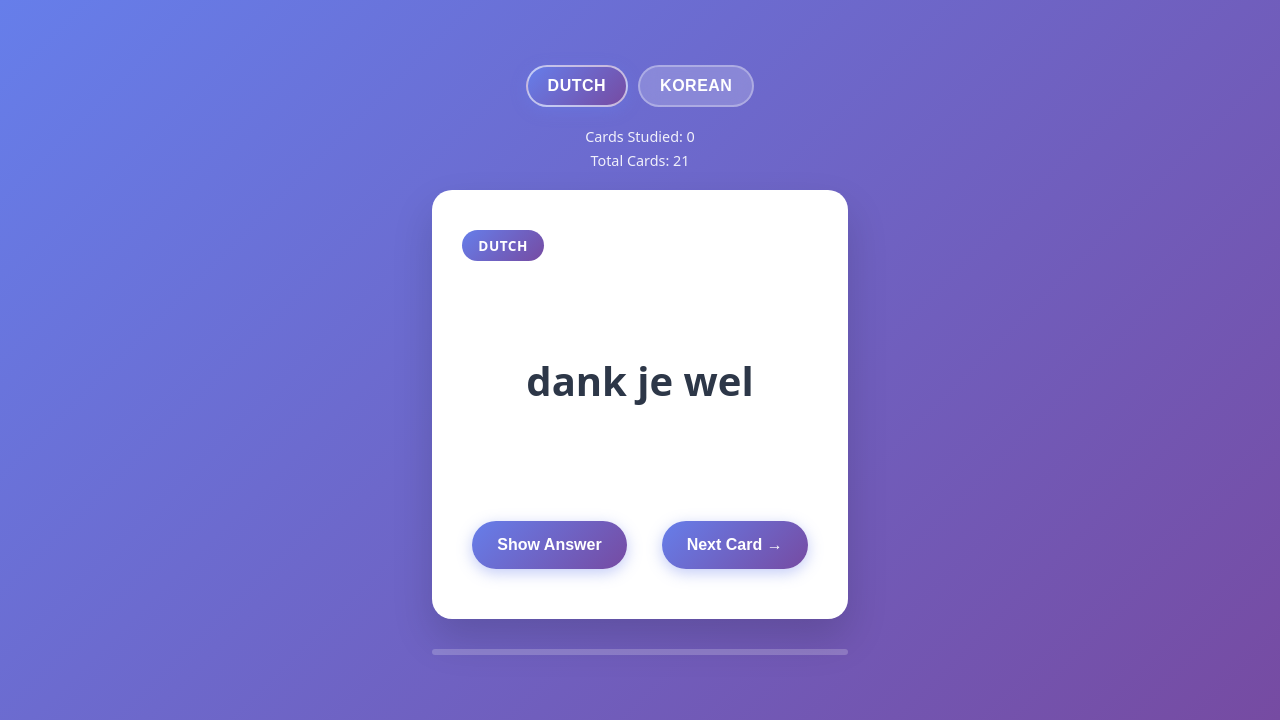
Scenario: Flashcard App › Language Switching › resets cards studied counter when switching languages
This screenshot has width=1280, height=720.
Step 1. Click the button "Next Card →" → coordinates (735, 545), box [662,521,808,569]
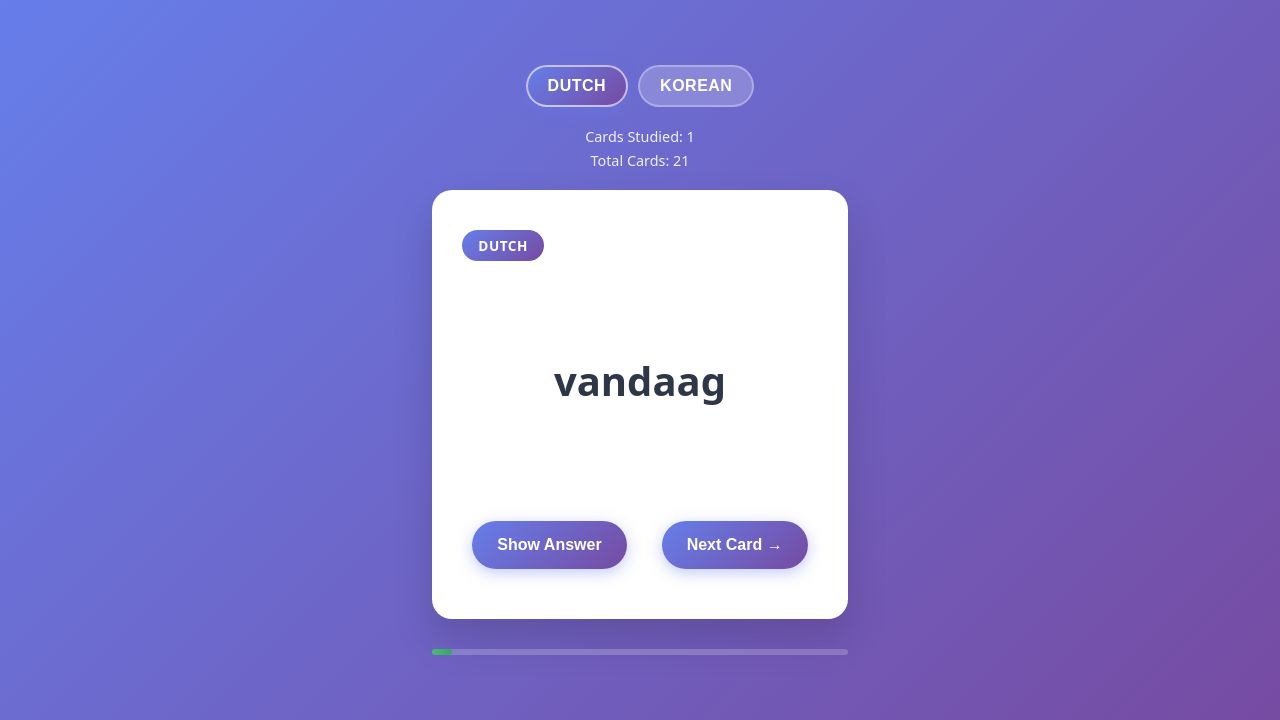
Step 2. Click the button "Next Card →" → coordinates (735, 545), box [662,521,808,569]
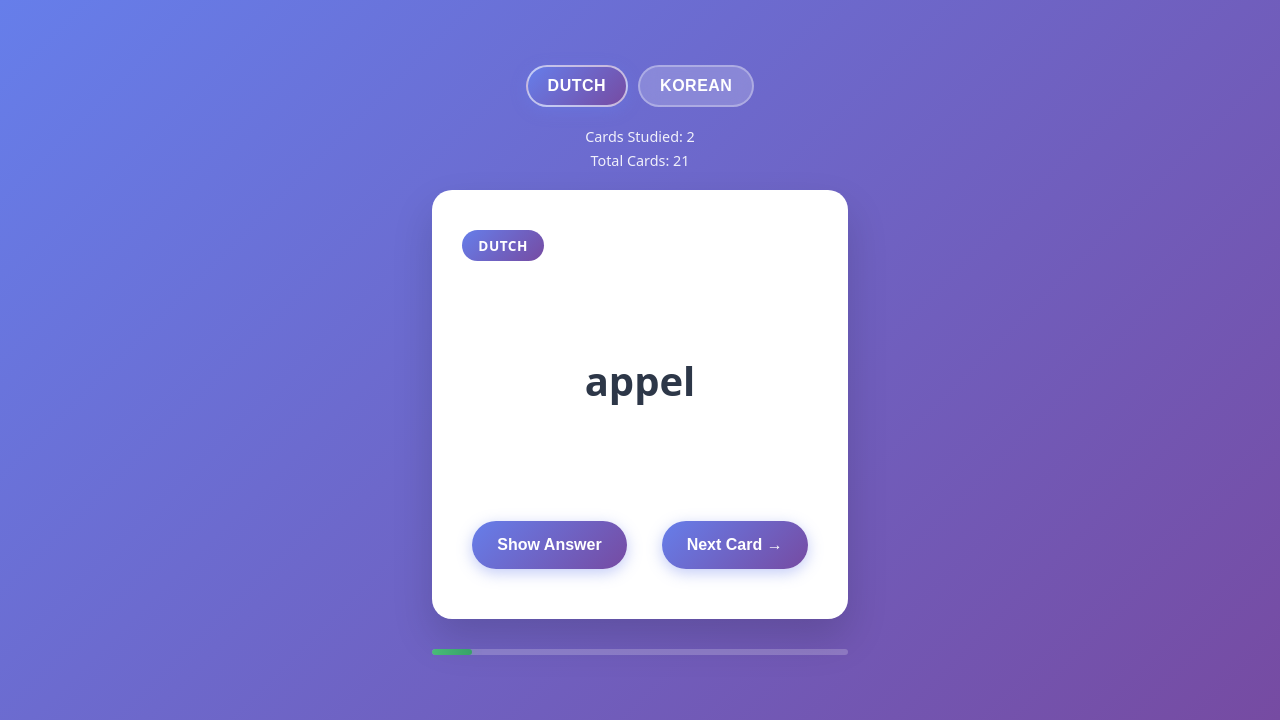
Step 3. Click the button "Next Card →" → coordinates (735, 545), box [662,521,808,569]
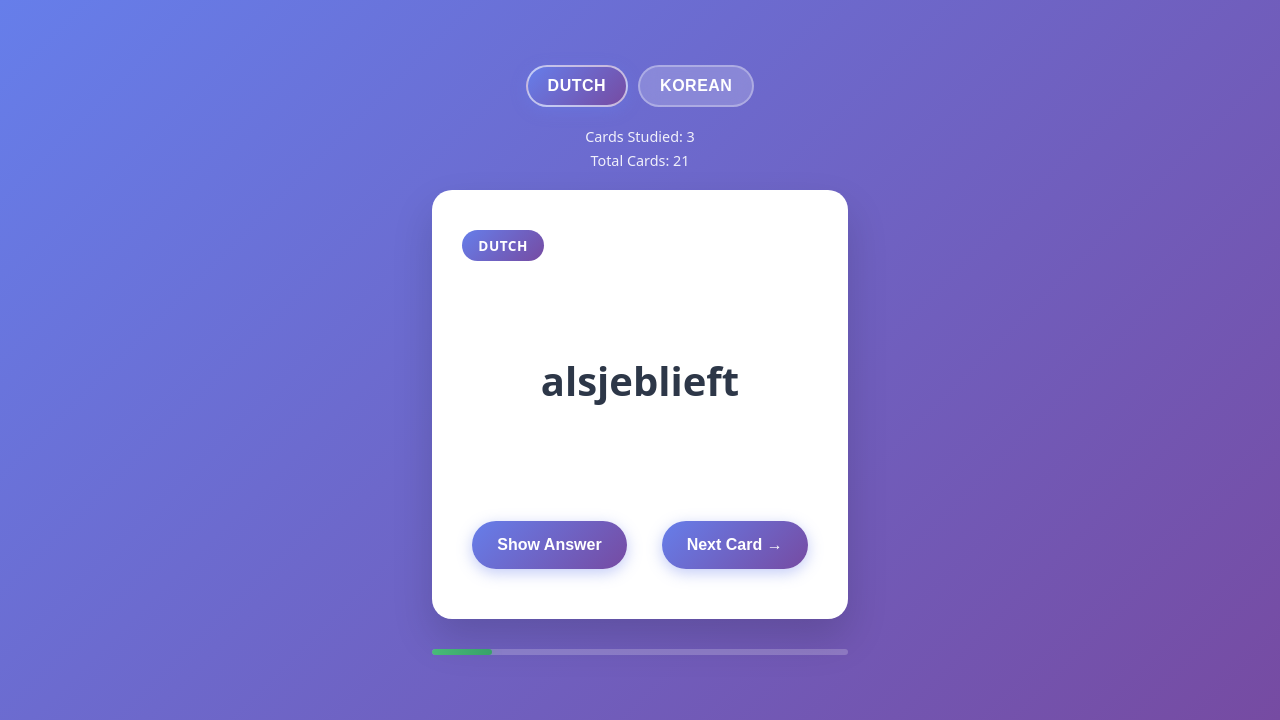
Step 4. Click the button "Korean" → coordinates (696, 86), box [638,65,754,107]
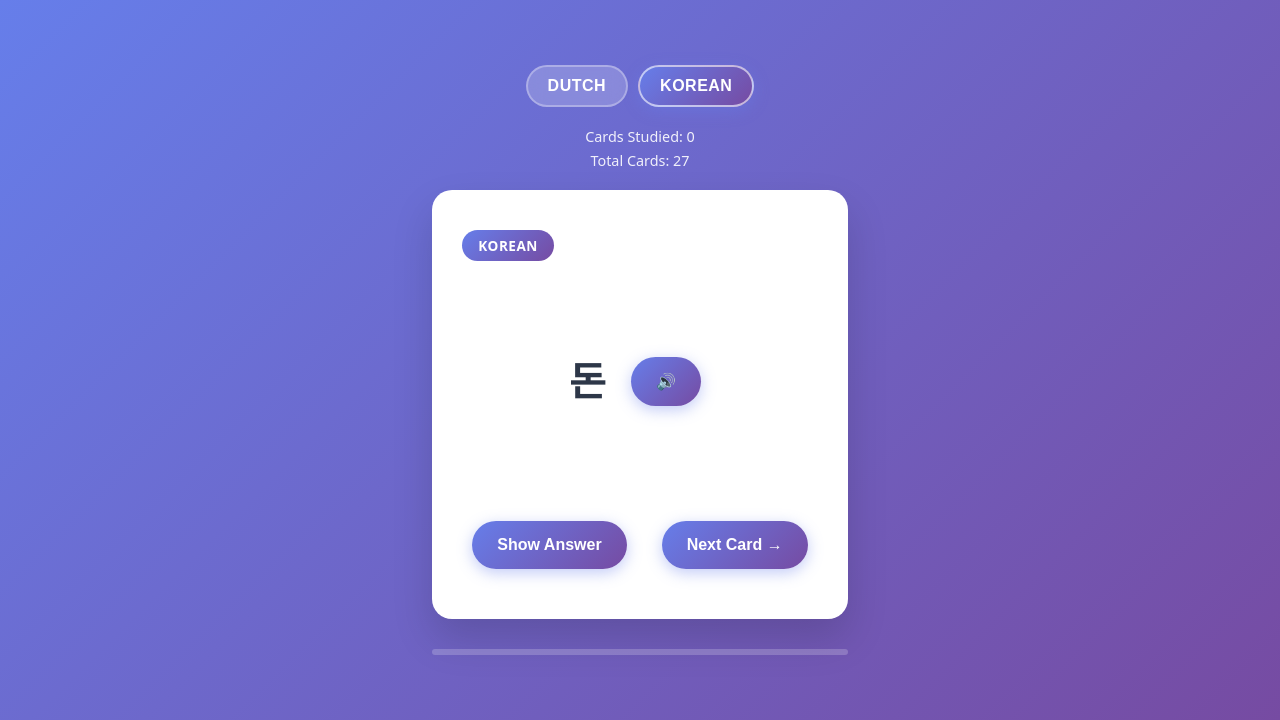
expect the text "Cards Studied: 0" is shown: met, box [585,127,695,146]
